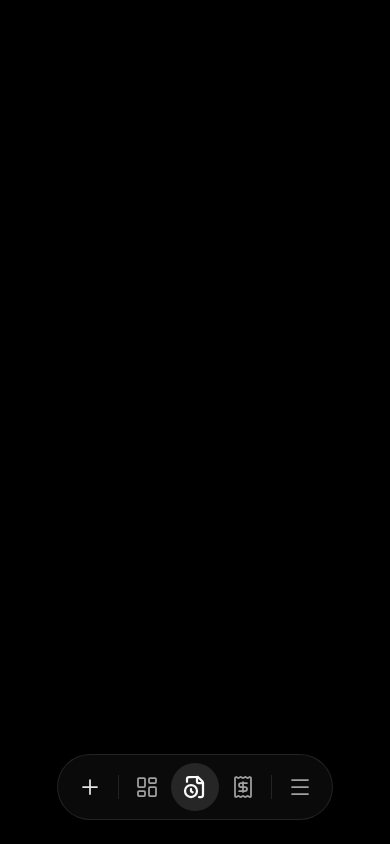
Test: overflow menu › closes when overlay is clicked
Click the button named "menu" at (300, 787), box top-left (276, 763), bottom-right (324, 811)
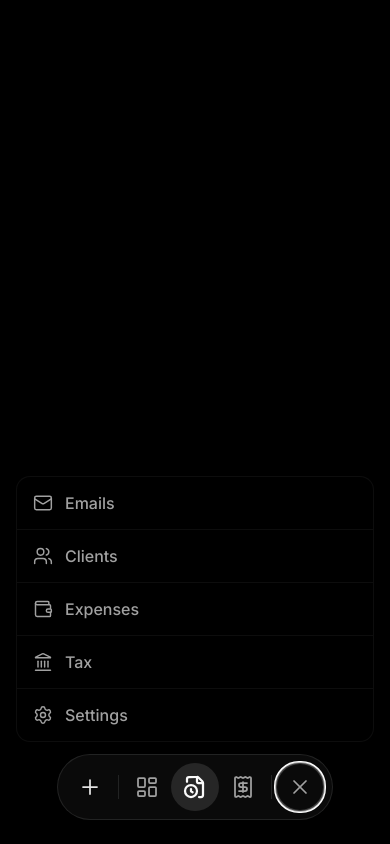
Now the button "Clients" is shown, box top-left (17, 530), bottom-right (373, 583)
Click the overlay (the fixed inset-0 div behind the menu)
Click the element with test id "menu-overlay" at (195, 422), box top-left (0, 0), bottom-right (389, 843)
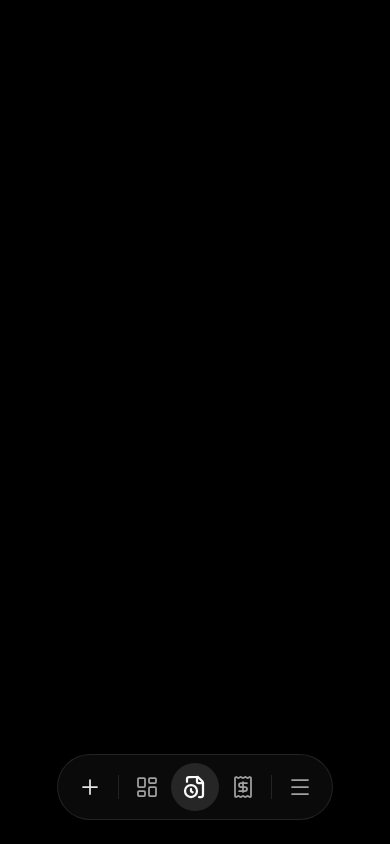
Now the button "Clients" is gone
